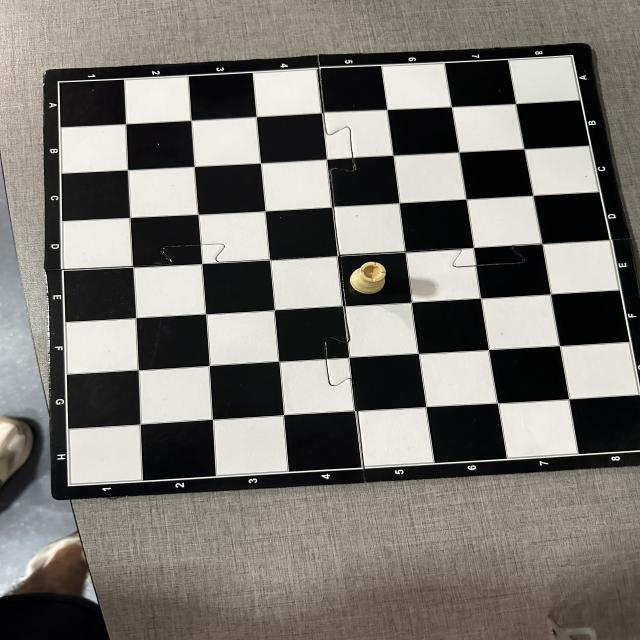White-Rook: (350, 261, 387, 294)
